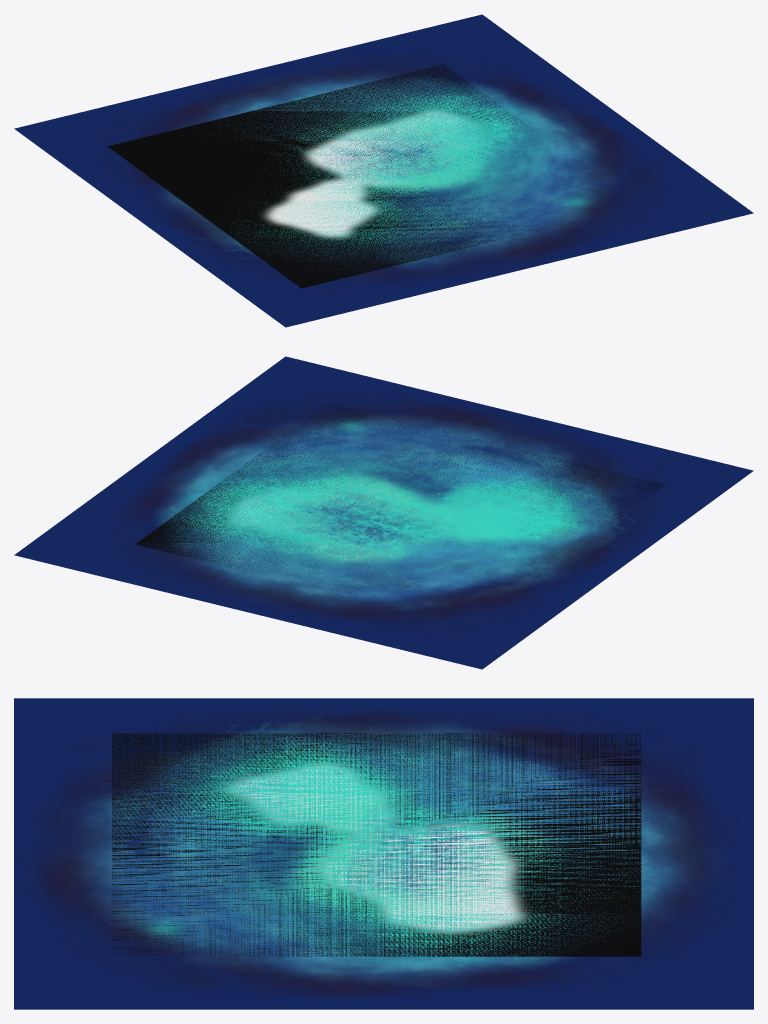
The model's file is pir_m_are_isl_tormenta_ocean.fbx.
The picture shows the model from 3 angles, top to bottom: view 1: azimuth 30°, elevation 25°; view 2: azimuth 150°, elevation 25°; view 3: azimuth 270°, elevation 25°; orthographic projection. The views are drawn at different scales.
Visible parts, largest first — view 1: water_color, water_alpha; view 2: water_color, water_alpha; view 3: water_color, water_alpha.
Boxes of the visible parts, x1,y1,x2,y2 form: water_color: [14, 14, 753, 327]; water_alpha: [108, 64, 556, 288]; water_color: [14, 356, 753, 669]; water_alpha: [135, 403, 664, 592]; water_color: [14, 698, 753, 1009]; water_alpha: [112, 733, 641, 956].
Size of what is drawn, in the model's own units: 447101 by 0.0732 by 449171.
2 materials, 2 textured.
